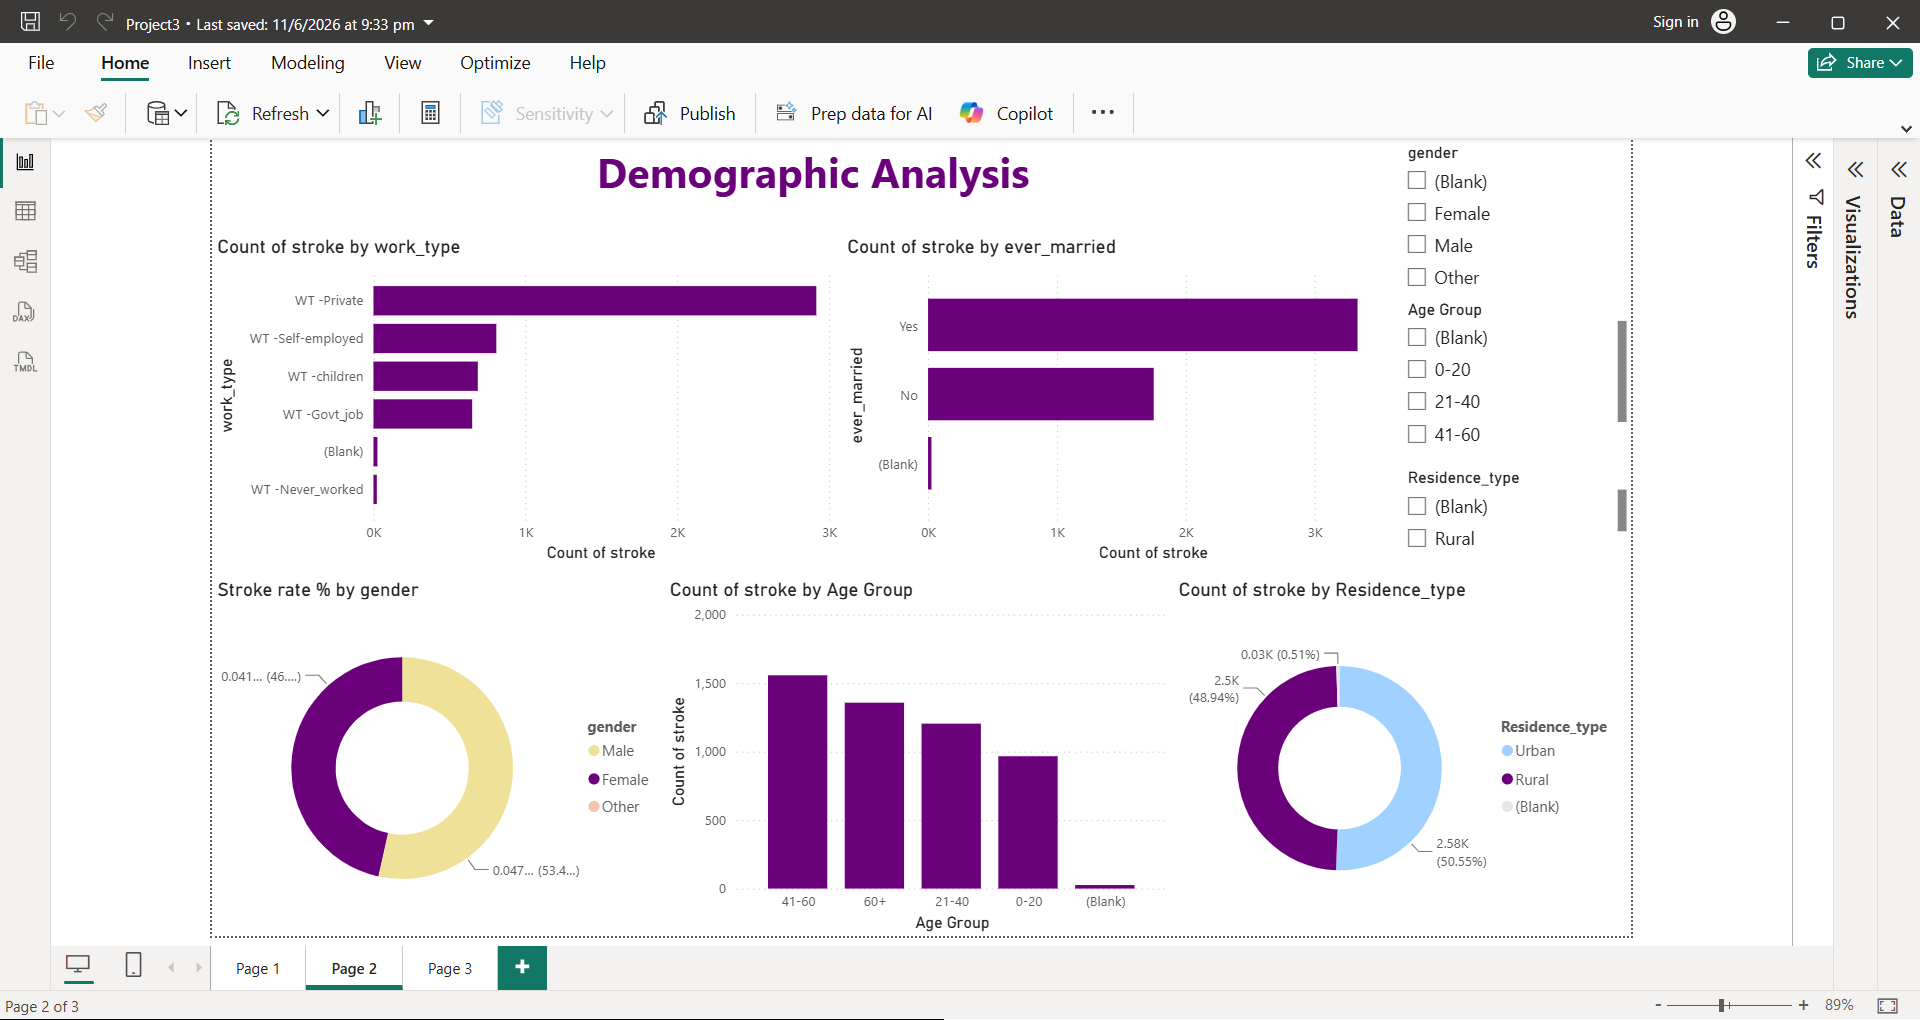

Layout of this report page (visuals, bound fields, positions):
{"tool":"powerbi","page":{"name":"Page 2","canvas":[1280,720],"ordinal":1},"visuals":[{"type":"textbox","box":[9.8,0,1063.9,88],"z":0},{"type":"clusteredColumnChart","fields":{"Category":["General_Details_table.Age Group"],"Y":["CountNonNull(Risk_Factors_Table.stroke)"]},"box":[408.4,396.2,458.6,324.1],"z":1},{"type":"donutChart","fields":{"Category":["General_Details_table.gender"],"Y":["Measure.Stroke rate %"]},"box":[0,396.2,408.4,324.1],"z":2},{"type":"clusteredBarChart","fields":{"Category":["General_Details_table.ever_married"],"Y":["CountNonNull(Risk_Factors_Table.stroke)"]},"box":[568.6,88,496.5,299.6],"z":3},{"type":"donutChart","fields":{"Category":["General_Details_table.Residence_type"],"Y":["CountNonNull(Risk_Factors_Table.stroke)"]},"box":[867,396.2,413.3,324.1],"z":4},{"type":"clusteredBarChart","fields":{"Category":["General_Details_table.work_type"],"Y":["CountNonNull(Risk_Factors_Table.stroke)"]},"box":[0,88,568.6,299.6],"z":5},{"type":"slicer","fields":{"Values":["General_Details_table.gender"]},"box":[1065.1,0,215.2,150.4],"z":6},{"type":"slicer","fields":{"Values":["General_Details_table.Age Group"]},"box":[1065.1,140.6,215.2,144.3],"z":7},{"type":"slicer","fields":{"Values":["General_Details_table.Residence_type"]},"box":[1065.1,293.5,215.2,86.8],"z":8}]}

Visuals, with their boxes on the page's 1280x720 design canvas (x1, y1, x2, y2). These are canvas units, not pixel positions in the 1920x1020 screenshot, which may show the page scaled, cropped or inside an application window:
textbox: 10 0 1074 88
clusteredColumnChart - General_Details_table.Age Group x CountNonNull(Risk_Factors_Table.stroke): 408 396 867 720
donutChart - General_Details_table.gender x Measure.Stroke rate %: 0 396 408 720
clusteredBarChart - General_Details_table.ever_married x CountNonNull(Risk_Factors_Table.stroke): 569 88 1065 388
donutChart - General_Details_table.Residence_type x CountNonNull(Risk_Factors_Table.stroke): 867 396 1280 720
clusteredBarChart - General_Details_table.work_type x CountNonNull(Risk_Factors_Table.stroke): 0 88 569 388
slicer - General_Details_table.gender: 1065 0 1280 150
slicer - General_Details_table.Age Group: 1065 141 1280 285
slicer - General_Details_table.Residence_type: 1065 294 1280 380
